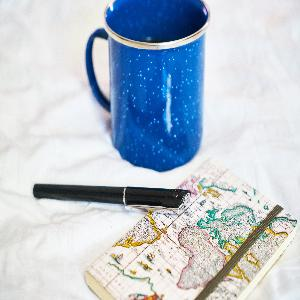pen: (28, 180, 196, 216)
